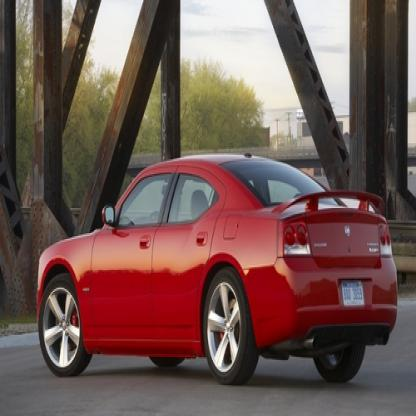Vehicle: (34, 151, 401, 390)
